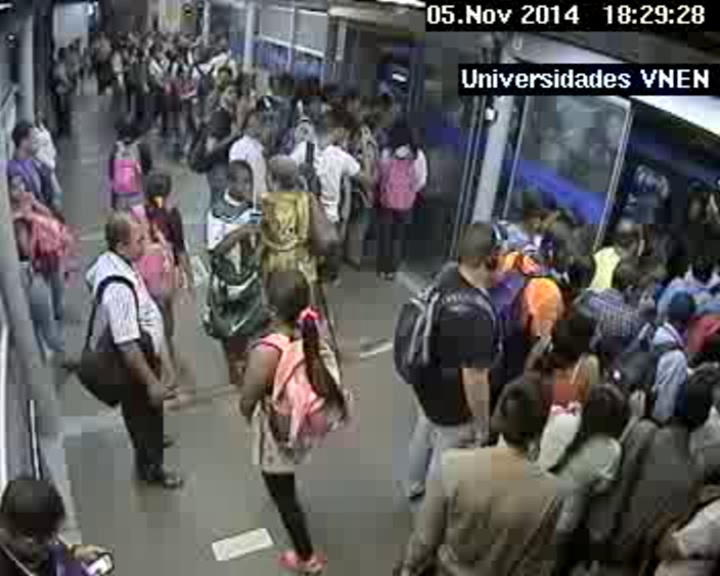person: (1, 477, 71, 565), (259, 265, 323, 333), (496, 377, 552, 449), (458, 218, 511, 287), (262, 191, 310, 249), (104, 205, 150, 265), (672, 371, 717, 425), (583, 382, 630, 430), (556, 314, 594, 360), (540, 210, 581, 251), (265, 153, 304, 193), (9, 118, 45, 161), (612, 257, 647, 295), (221, 160, 254, 199), (534, 234, 568, 271), (612, 217, 645, 255), (663, 290, 697, 324), (525, 191, 555, 228), (319, 111, 350, 146), (111, 108, 142, 140), (4, 171, 35, 203), (687, 249, 718, 280), (144, 171, 173, 204), (244, 110, 271, 140), (206, 110, 234, 138), (571, 254, 595, 283), (396, 123, 418, 147), (220, 85, 242, 106), (317, 82, 336, 102), (276, 76, 295, 95), (304, 97, 322, 117), (344, 93, 362, 112), (363, 107, 379, 126), (217, 66, 232, 86), (113, 31, 127, 51), (215, 36, 230, 53), (196, 47, 211, 63), (380, 93, 395, 109), (237, 73, 252, 88), (252, 74, 265, 86), (96, 27, 107, 40), (57, 48, 68, 61), (135, 45, 146, 57), (181, 30, 191, 41), (164, 47, 174, 58), (173, 47, 183, 58), (149, 45, 158, 57), (146, 29, 154, 40), (154, 30, 162, 40), (166, 32, 174, 42), (131, 27, 139, 34), (68, 44, 75, 51), (74, 39, 80, 46)
